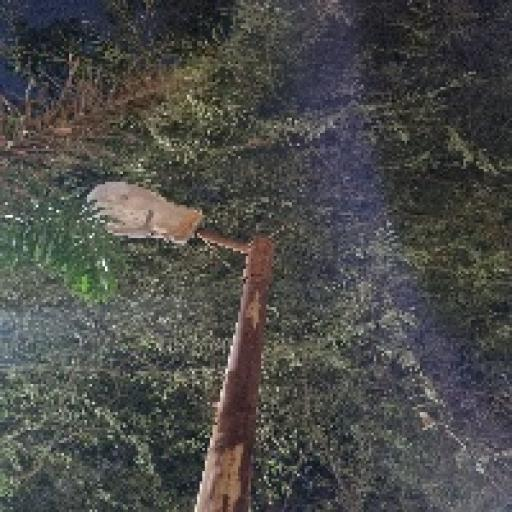Not Working: (78, 170, 212, 256)
